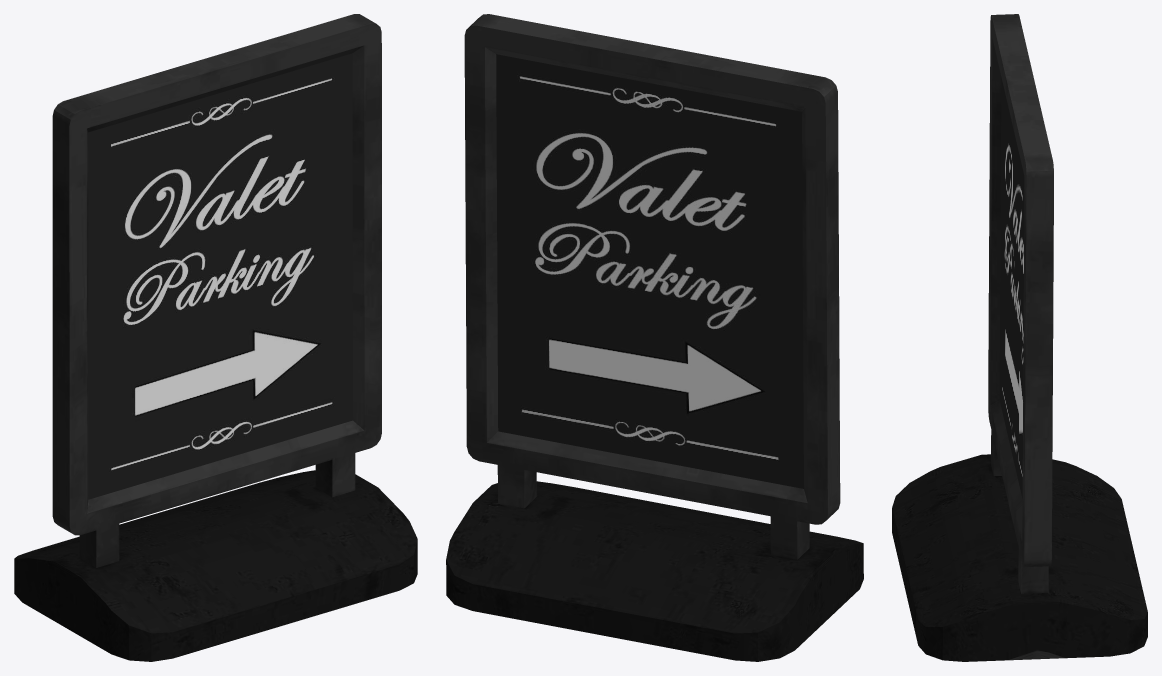
The model's file is valet_parking.glb.
3 renders of one model, left to right at view 1: azimuth 30°, elevation 25°; view 2: azimuth 150°, elevation 25°; view 3: azimuth 270°, elevation 25°, orthographic. The views are drawn at different scales.
Parts seen in each view (by area): view 1: valet_parking; view 2: valet_parking; view 3: valet_parking.
Boxes of the visible parts, x1=… form: valet_parking: x1=14, y1=14, x2=417, y2=661; valet_parking: x1=446, y1=14, x2=863, y2=661; valet_parking: x1=892, y1=14, x2=1147, y2=661.
Bounding box in the file's own units: 0.8991 × 1.34 × 0.6219.
Materials: 1 (1 with a texture image).
